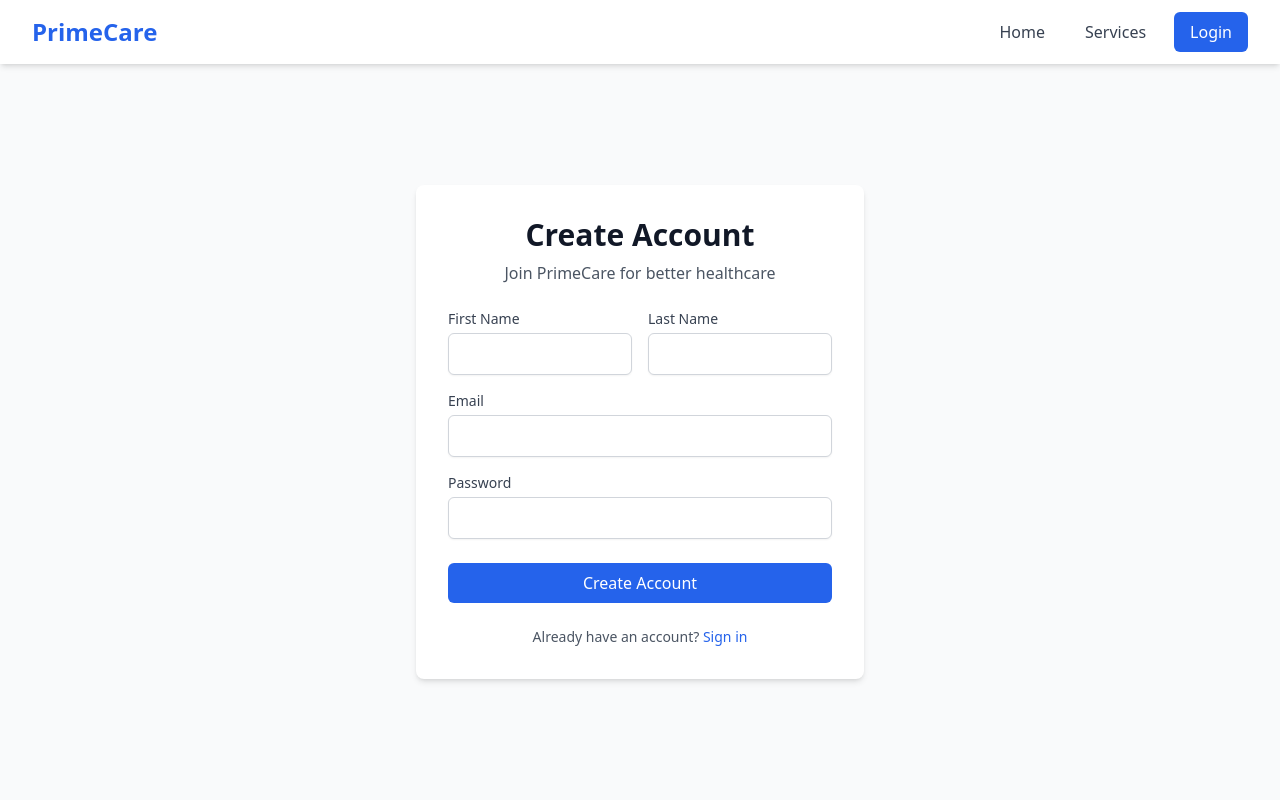
Register Page › shows validation errors for empty fields
Click the submit button at [640, 583], box top-left (448, 563), bottom-right (832, 603)
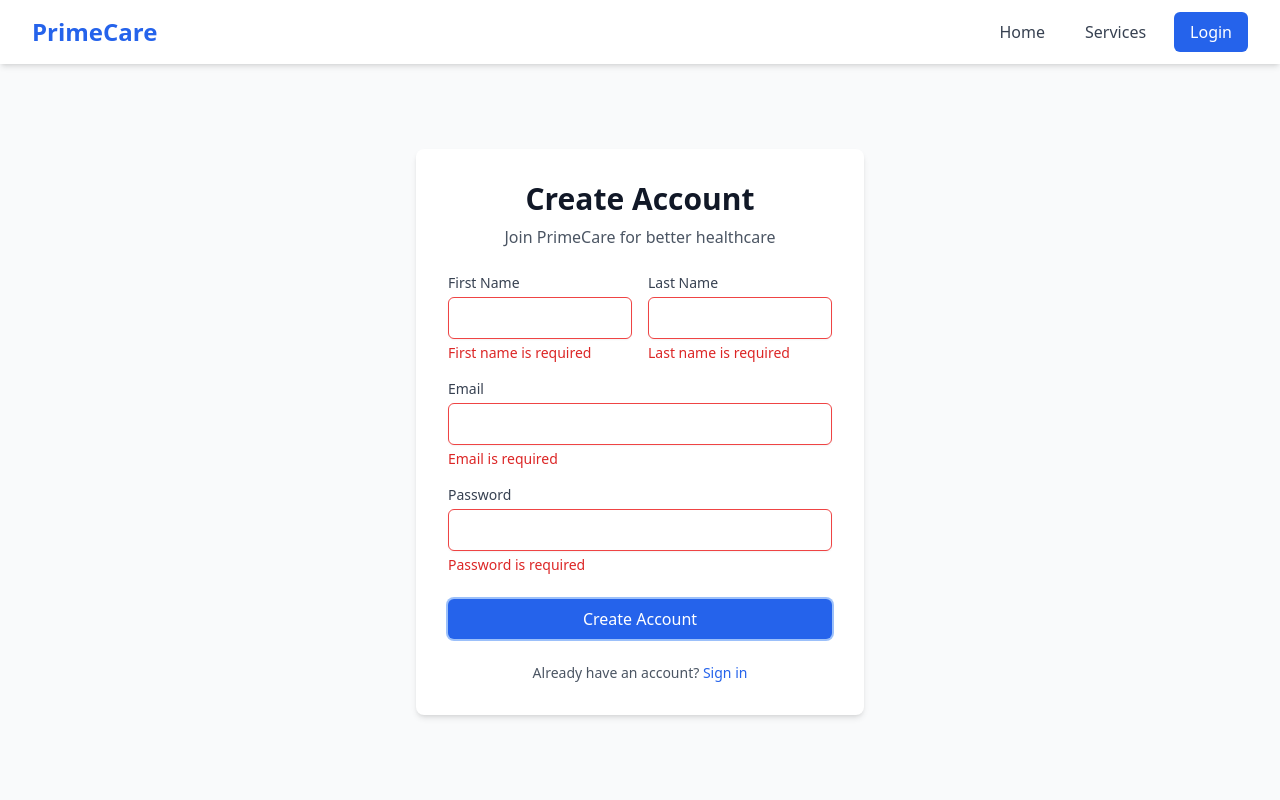
Expected: the text "First name is required" is shown, top-left (448, 343), bottom-right (591, 362)
Expected: the text "Last name is required" is shown, top-left (648, 343), bottom-right (790, 362)
Expected: the text "Email is required" is shown, top-left (448, 449), bottom-right (558, 468)
